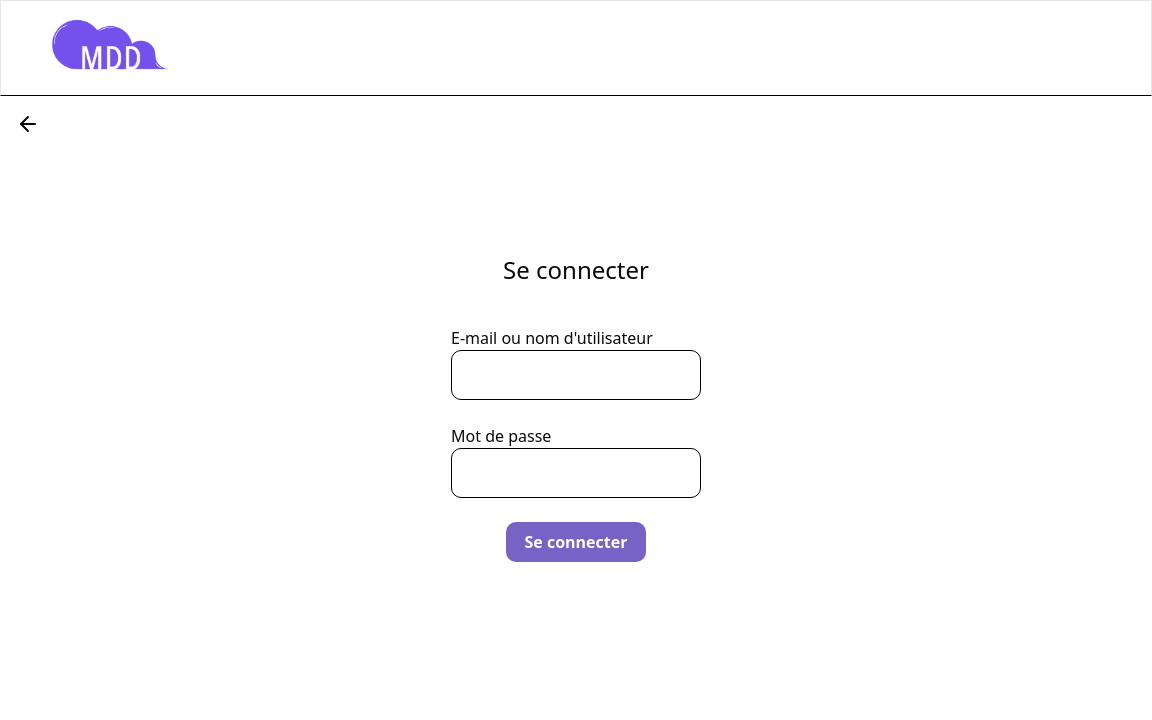
Test: Authentification › affiche une erreur avec des identifiants invalides
The image size is (1152, 720).
Type "invalide@test.com" into the field named "emailOrUsername" at (576, 375), box [451,350,701,400]
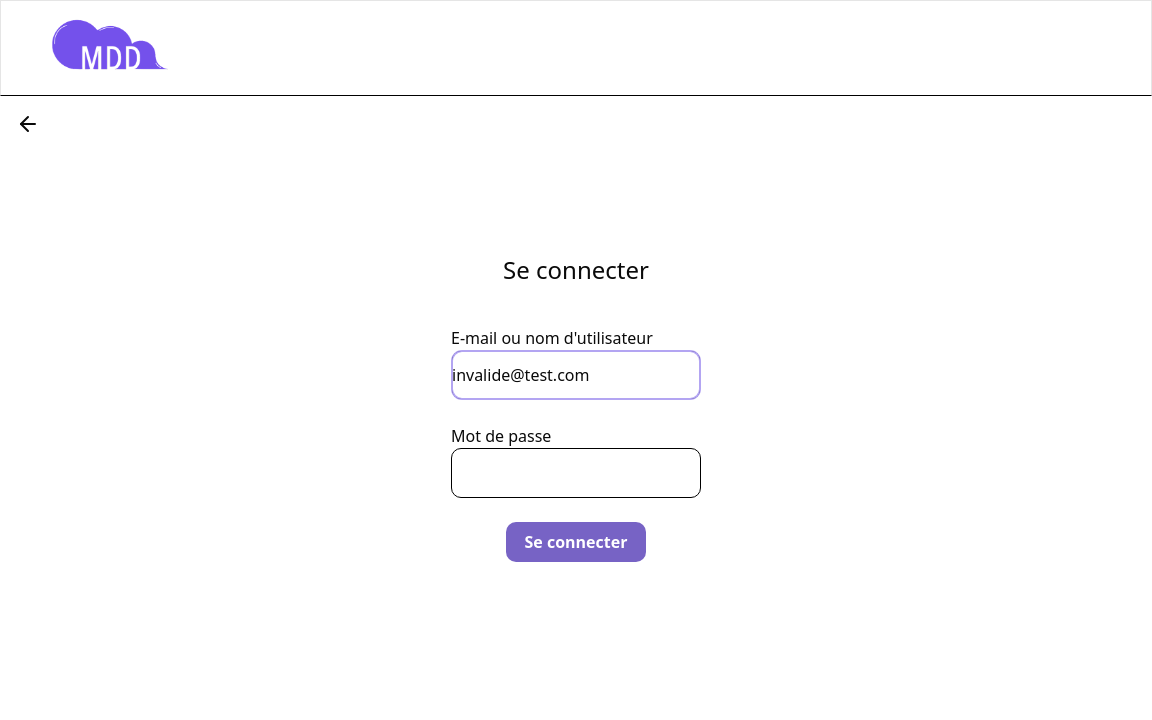
Type "mauvais" into the password field named "password" at (576, 473), box [451,448,701,498]
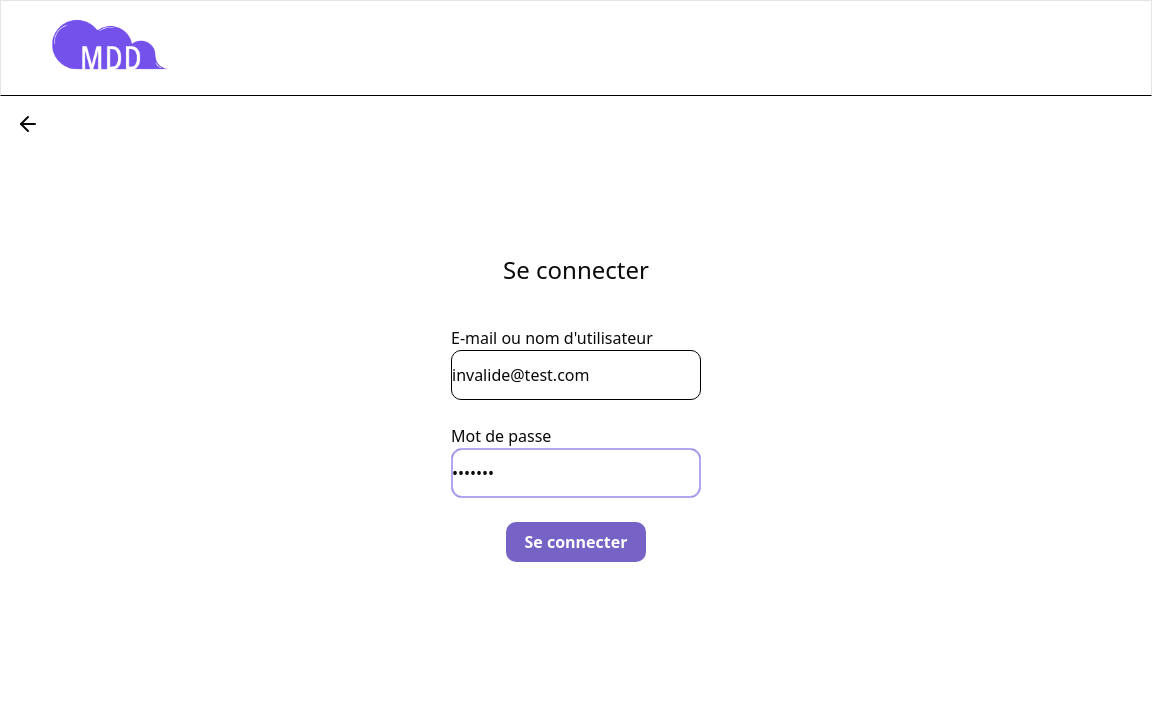
Click the submit button at (576, 542), box [506,522,646,562]
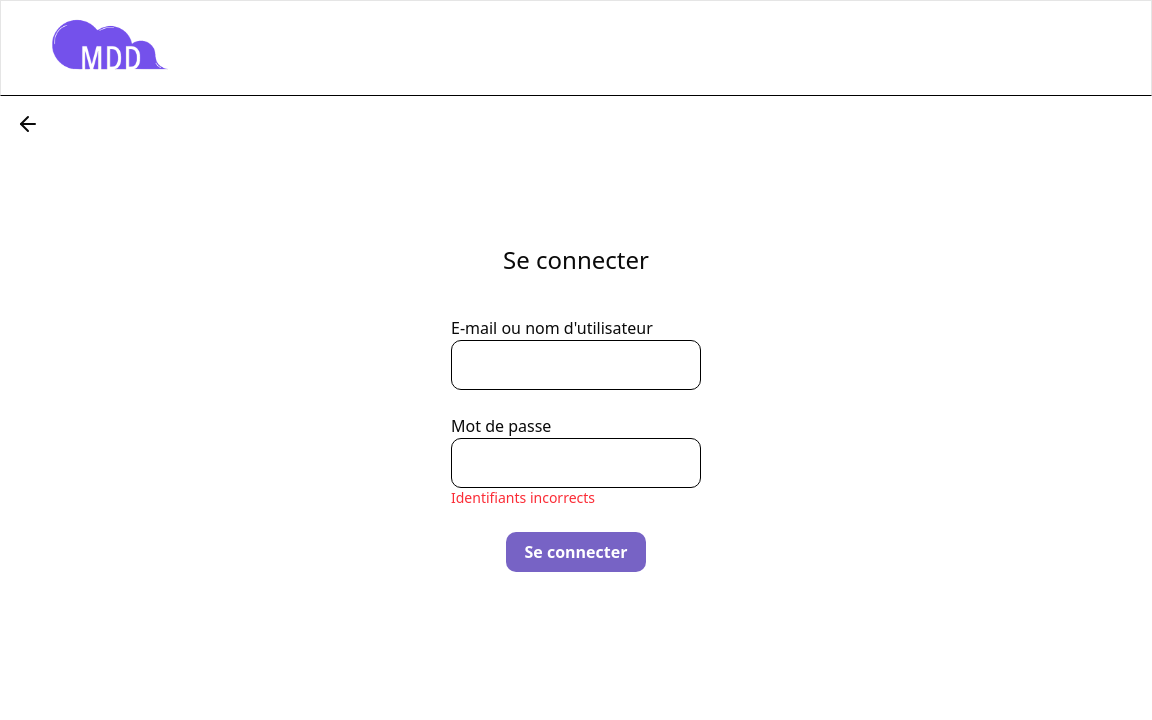
Now the text "Identifiants incorrects" is shown, box [451,488,595,507]
